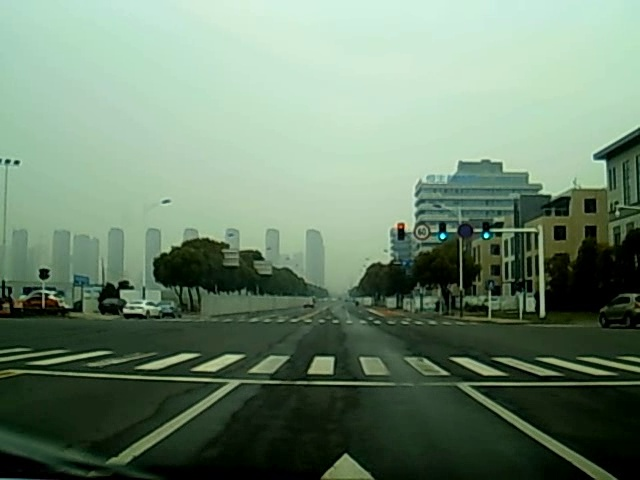Traffic_Light_go: (439, 223, 447, 245), (481, 221, 489, 241)
Traffic_Light_stop: (398, 224, 405, 243)
